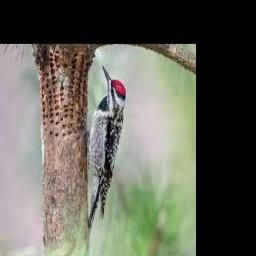Woodpecker: (86, 64, 125, 232)
